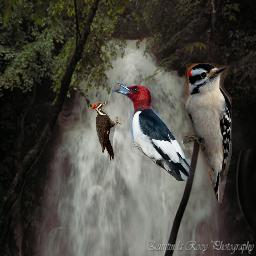Woodpecker: (111, 80, 194, 181), (182, 63, 232, 203), (90, 101, 122, 161)
